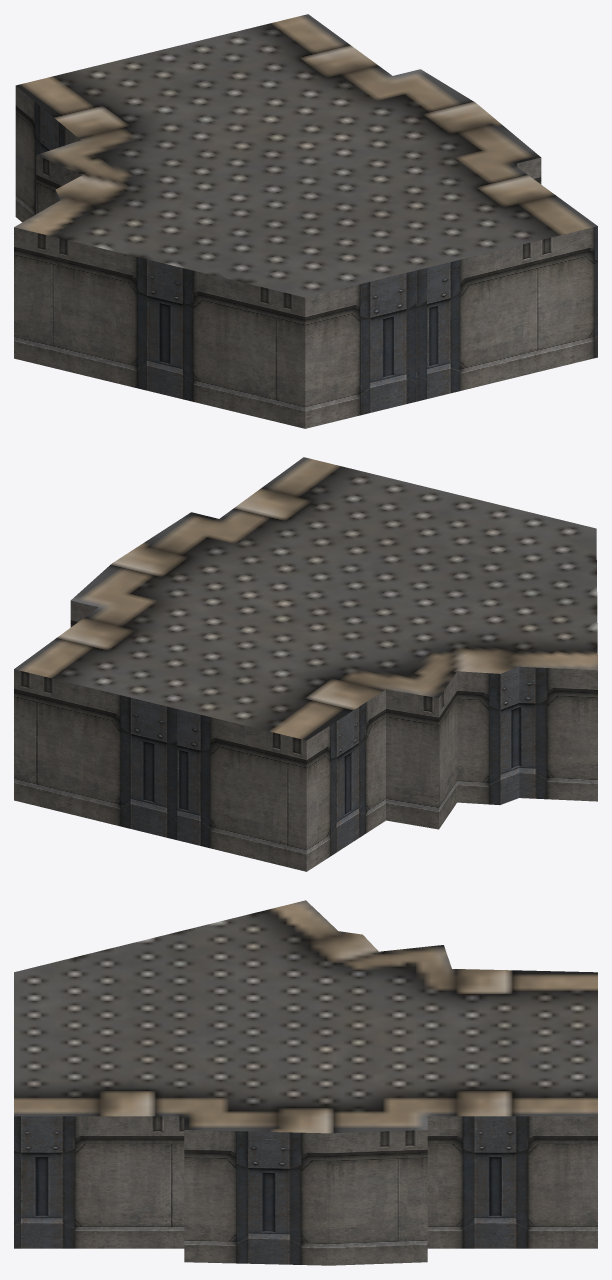
File: building_heavy_a_25.glb
3 views of the same model, one above another, from view 1: azimuth 30°, elevation 25°; view 2: azimuth 150°, elevation 25°; view 3: azimuth 270°, elevation 25° (orthographic).
Visible parts, largest first — view 1: buildings/saxarba/building_heavy/building_heavy_a_25; view 2: buildings/saxarba/building_heavy/building_heavy_a_25; view 3: buildings/saxarba/building_heavy/building_heavy_a_25.
Part boxes in pixels (<box>): buildings/saxarba/building_heavy/building_heavy_a_25: <box>14,14,597,428</box>; buildings/saxarba/building_heavy/building_heavy_a_25: <box>14,457,597,871</box>; buildings/saxarba/building_heavy/building_heavy_a_25: <box>14,900,597,1265</box>.
Size of the model in its own units: 68 by 18 by 72.
